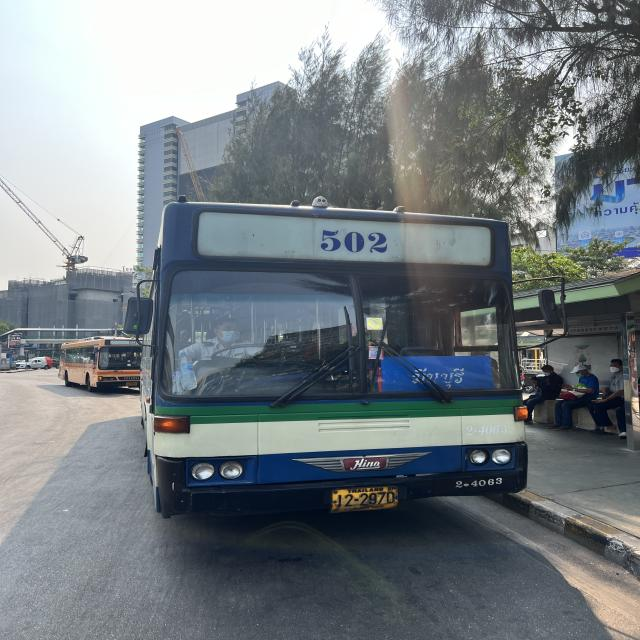BMTA-bus: (141, 203, 529, 521), (57, 337, 143, 395)
Bus-Line-Number: (313, 222, 397, 259), (126, 339, 140, 346)
Destination-Sign-Normal: (382, 355, 494, 390)
